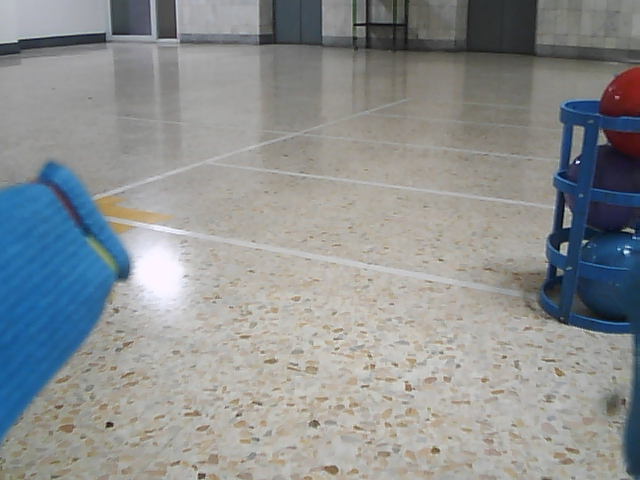Blue ball: (573, 231, 640, 322)
Cyro: (536, 96, 640, 335)
Purple ball: (562, 146, 640, 230)
Red ball: (599, 62, 640, 155)
